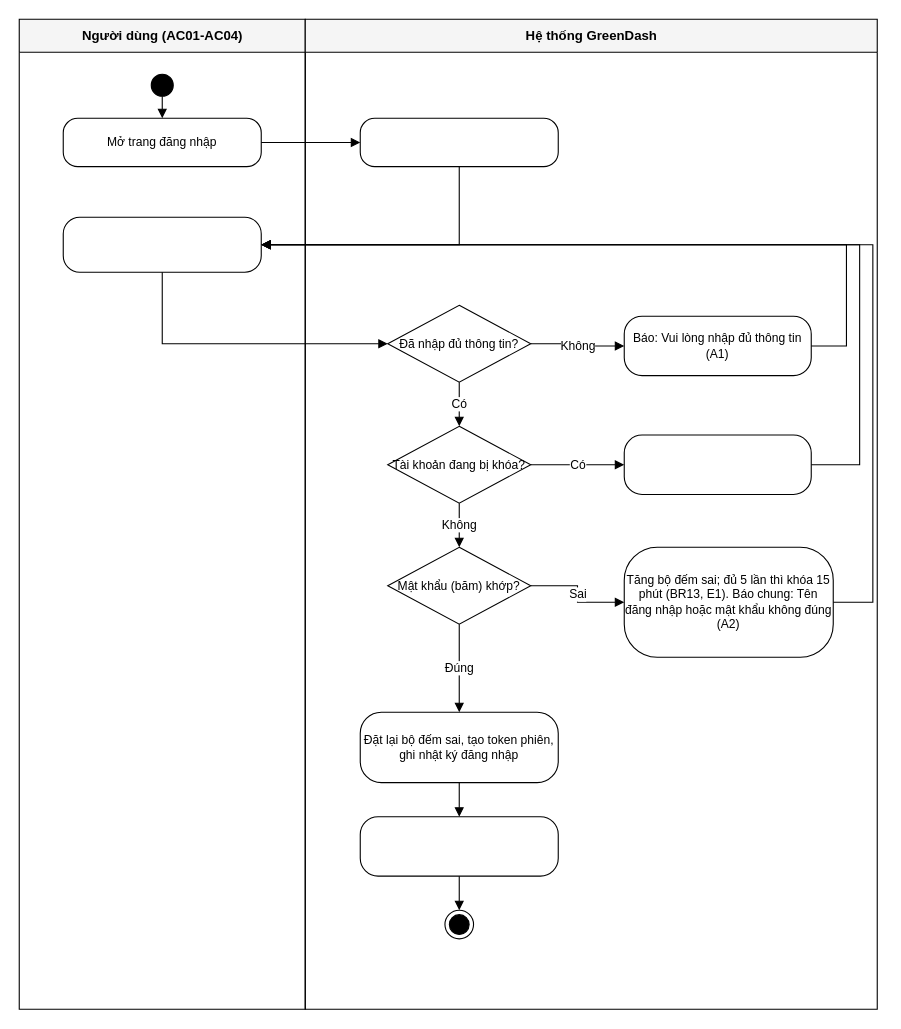
This 901x1029 diagram has some shape labels left out. Each missing label, with the centre of its shape:
Báo: Tài khoản đã bị khóa (A3): the point at 717,464
Chuyển đến dashboard, hiển thị menu theo vai trò: the point at 458,846
Hiển thị biểu mẫu đăng nhập: the point at 458,142
Nhập tên đăng nhập, mật khẩu và nhấn Đăng nhập: the point at 161,244
